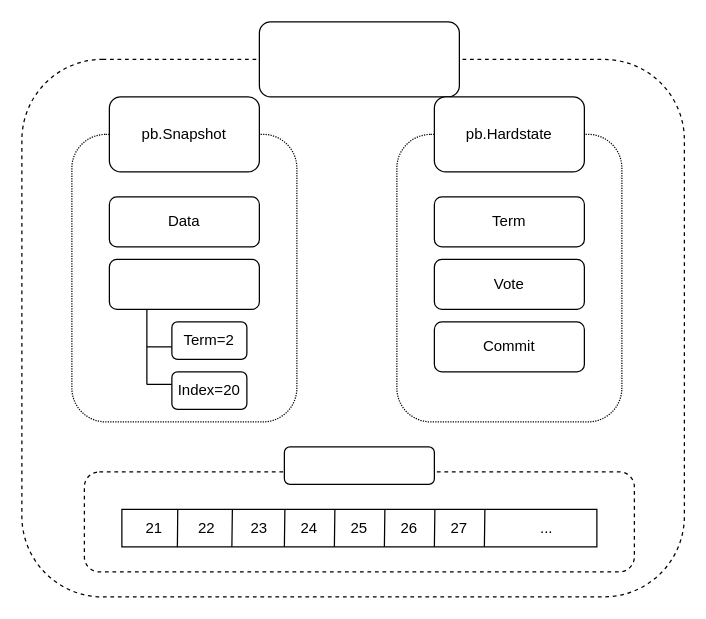
Some shapes in this 706 by 619 pixel diagram are drawn without their labels. The shapes that lost their labels are listed below. From the top down, each one's centre as x and y in pixels, then its label:
At point 358,59: "MemoryStorage".
At point 183,283: "Metadata".
At point 358,465: "ents".
